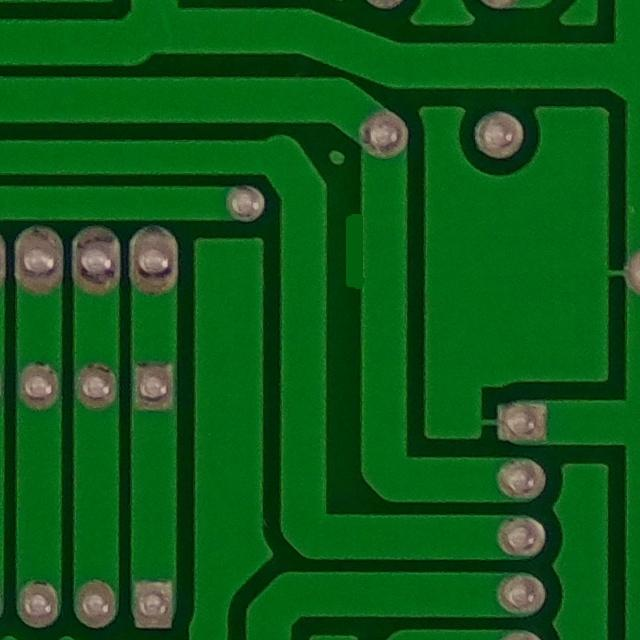spur: (335, 193, 377, 295)
